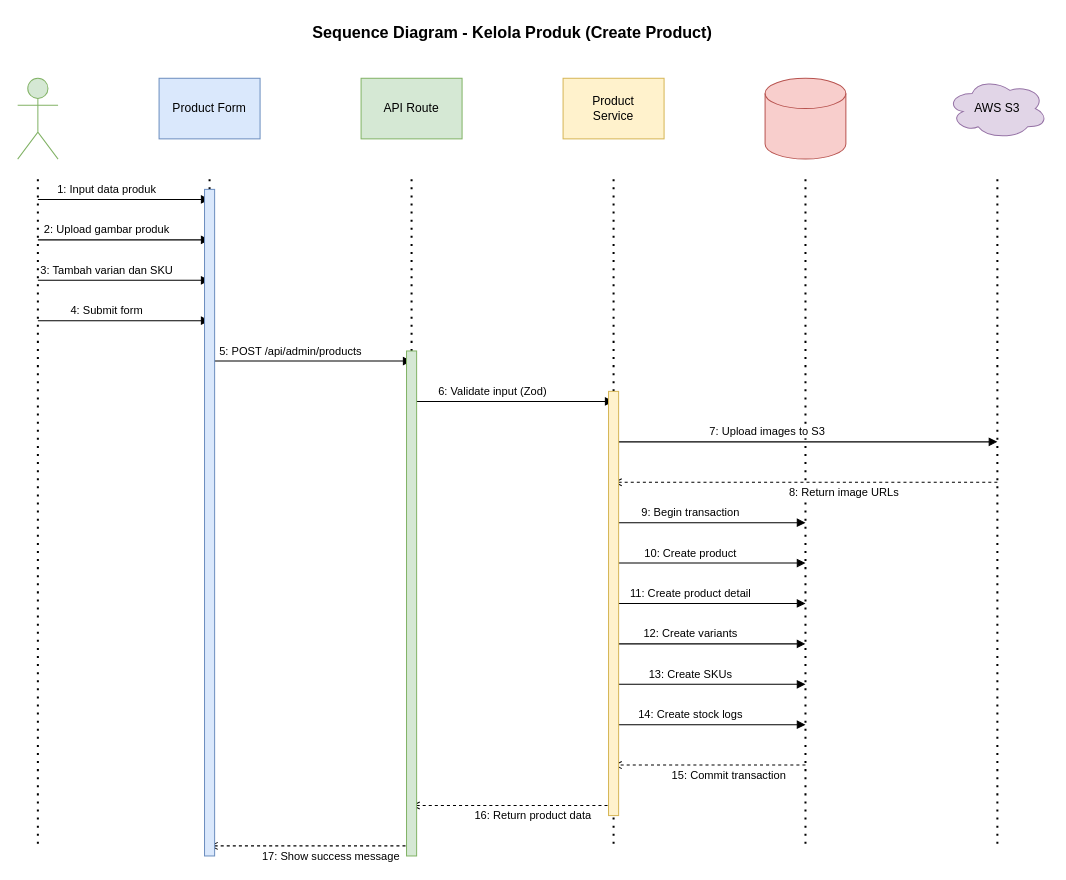
This 1066x880 diagram has some shape labels left out. Here are the shapes that lost their labels. From the top down, the box of each, then its label:
(17, 77, 58, 159): Admin
(764, 77, 846, 159): Database
